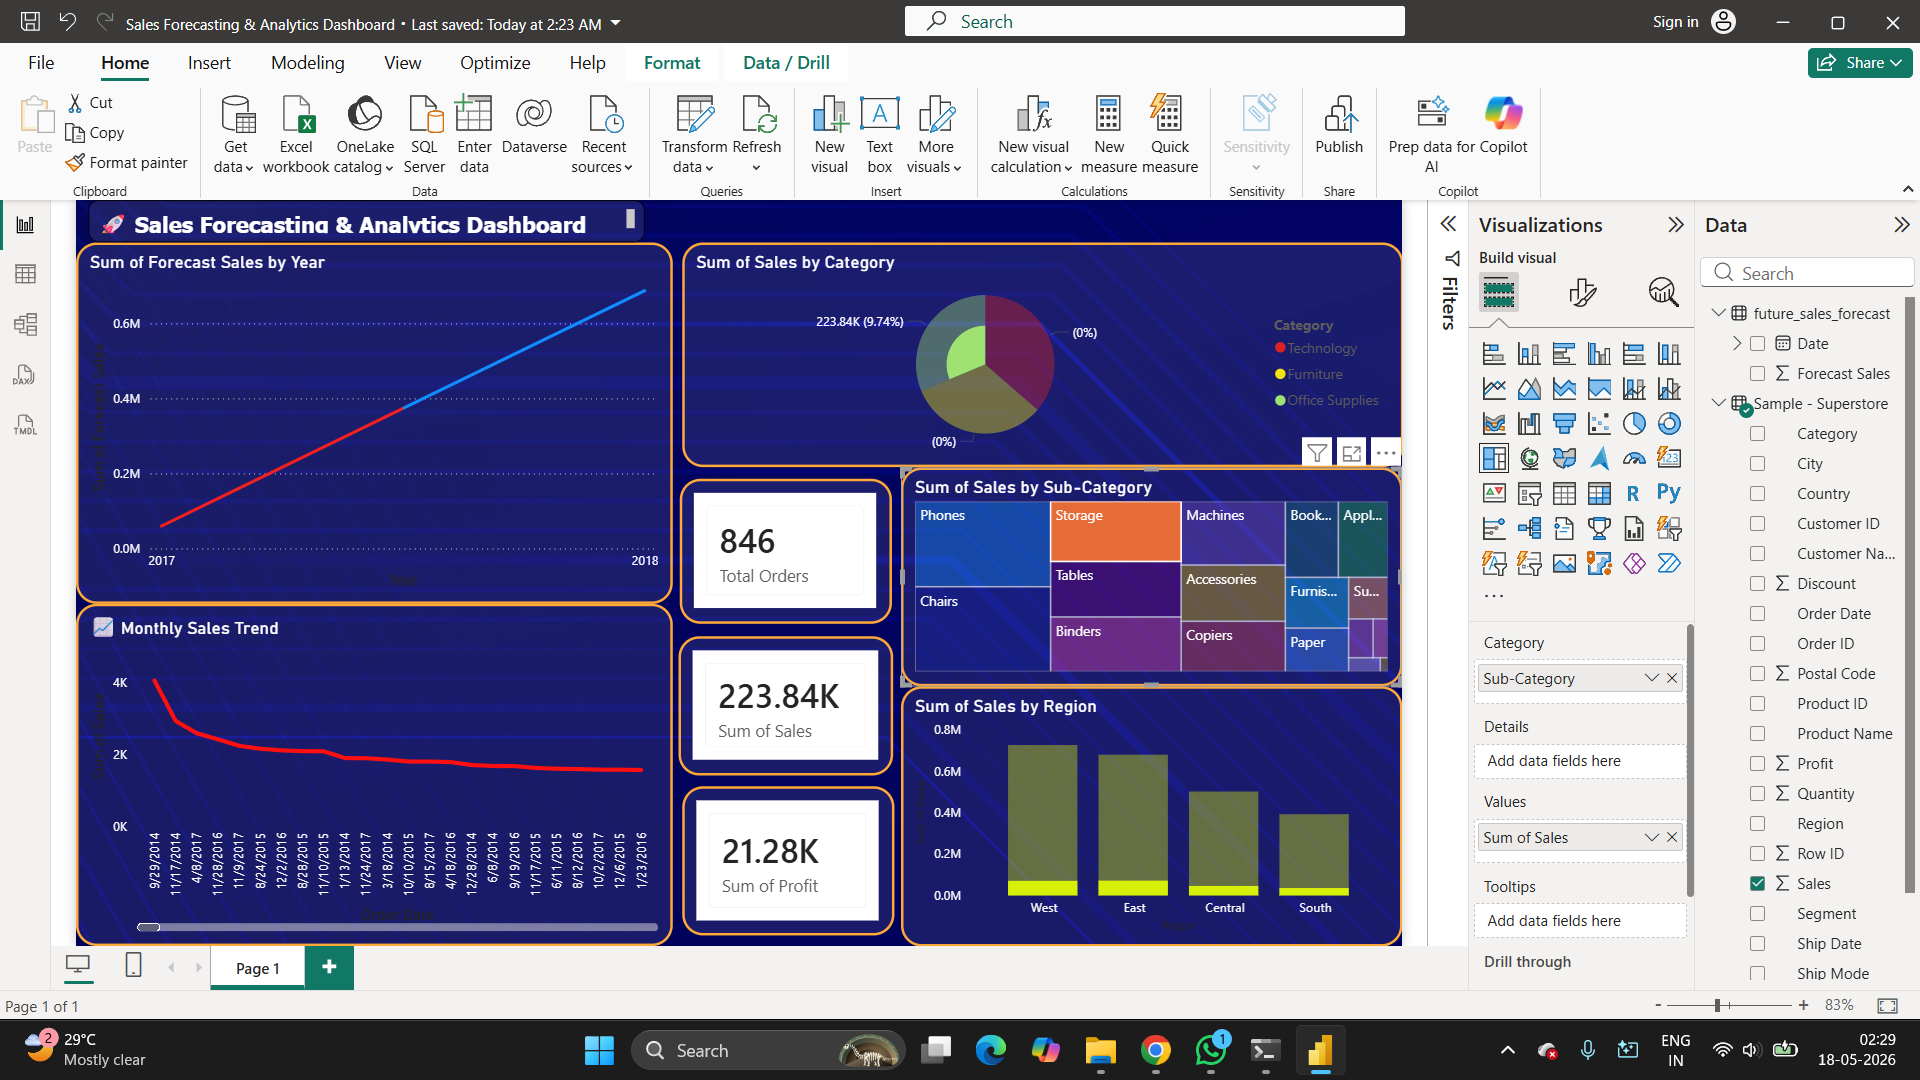

The page's visual inventory and layout, read from the dashboard file:
{"tool":"powerbi","page":{"name":"Page 1","canvas":[1280,720],"ordinal":0},"visuals":[{"type":"cardVisual","fields":{"Data":["Sum(Sample - Superstore.Profit)"]},"box":[1064.8,5.5,204.5,150.9],"z":0},{"type":"cardVisual","fields":{"Data":["Sum(Sample - Superstore.Sales)"]},"box":[886.5,5.5,168.8,150.9],"z":1000},{"type":"cardVisual","fields":{"Data":["Sample - Superstore.Total Orders"]},"box":[712.2,5.5,168.8,150.9],"z":2000},{"type":"lineChart","title":"📈 Monthly Sales Trend","fields":{"Category":["Sample - Superstore.Order Date"],"Y":["Sum(Sample - Superstore.Sales)"]},"box":[12.1,41,690.1,359.5],"z":3000},{"type":"clusteredColumnChart","fields":{"Category":["Sample - Superstore.Region"],"Y":["Sum(Sample - Superstore.Sales)"]},"box":[626.1,410.2,643,299.2],"z":4000},{"type":"pieChart","fields":{"Category":["Sample - Superstore.Category"],"Y":["Sum(Sample - Superstore.Sales)"]},"box":[226.8,410.2,386.1,299.2],"z":5000},{"type":"slicer","fields":{"Values":["Sample - Superstore.Sub-Category","Sample - Superstore.Sales"]},"box":[12.3,410.3,205.8,299.1],"z":6000},{"type":"areaChart","fields":{"Category":["future_sales_forecast.Date.Variation.Date Hierarchy.Year","future_sales_forecast.Date.Variation.Date Hierarchy.Month","future_sales_forecast.Date.Variation.Date Hierarchy.Day"],"Y":["Sum(future_sales_forecast.Forecast Sales)"]},"box":[711.8,160.5,557.4,240.1],"z":7000},{"type":"textbox","box":[12.3,0,536.5,41.2],"z":8000}]}

Visuals, with their boxes on the page's 1280x720 design canvas (x1, y1, x2, y2). These are canvas units, not pixel positions in the 1920x1080 screenshot, which may show the page scaled, cropped or inside an application window:
cardVisual - Sum(Sample - Superstore.Profit): (1065,6,1269,156)
cardVisual - Sum(Sample - Superstore.Sales): (886,6,1055,156)
cardVisual - Sample - Superstore.Total Orders: (712,6,881,156)
"📈 Monthly Sales Trend" lineChart: (12,41,702,400)
clusteredColumnChart - Sample - Superstore.Region x Sum(Sample - Superstore.Sales): (626,410,1269,709)
pieChart - Sample - Superstore.Category x Sum(Sample - Superstore.Sales): (227,410,613,709)
slicer - Sample - Superstore.Sub-Category x Sample - Superstore.Sales: (12,410,218,709)
areaChart - future_sales_forecast.Date.Variation.Date Hierarchy.Year x future_sales_forecast.Date.Variation.Date Hierarchy.Month: (712,160,1269,401)
textbox: (12,0,549,41)
